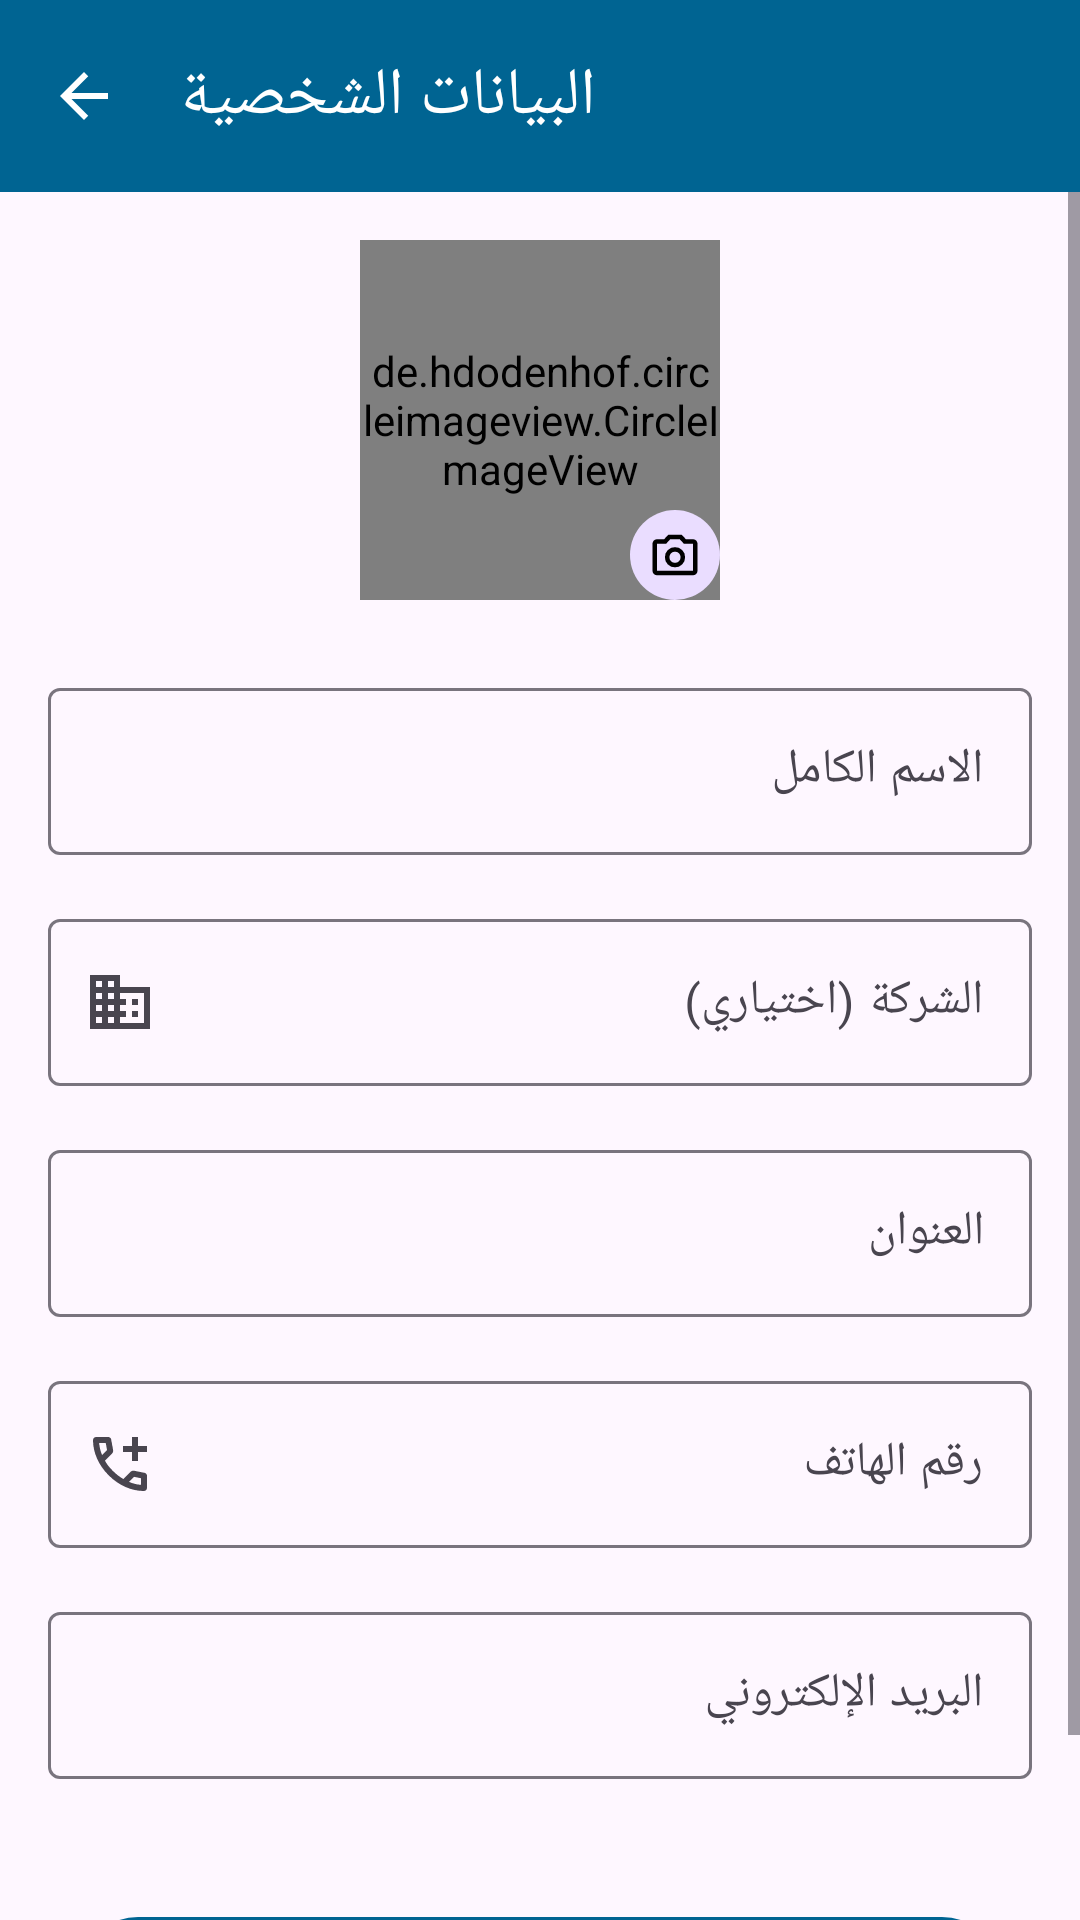

Screen size 1080 × 1920. Icon name, then its center in pixels as [x,y]:
camera: [675,555]
